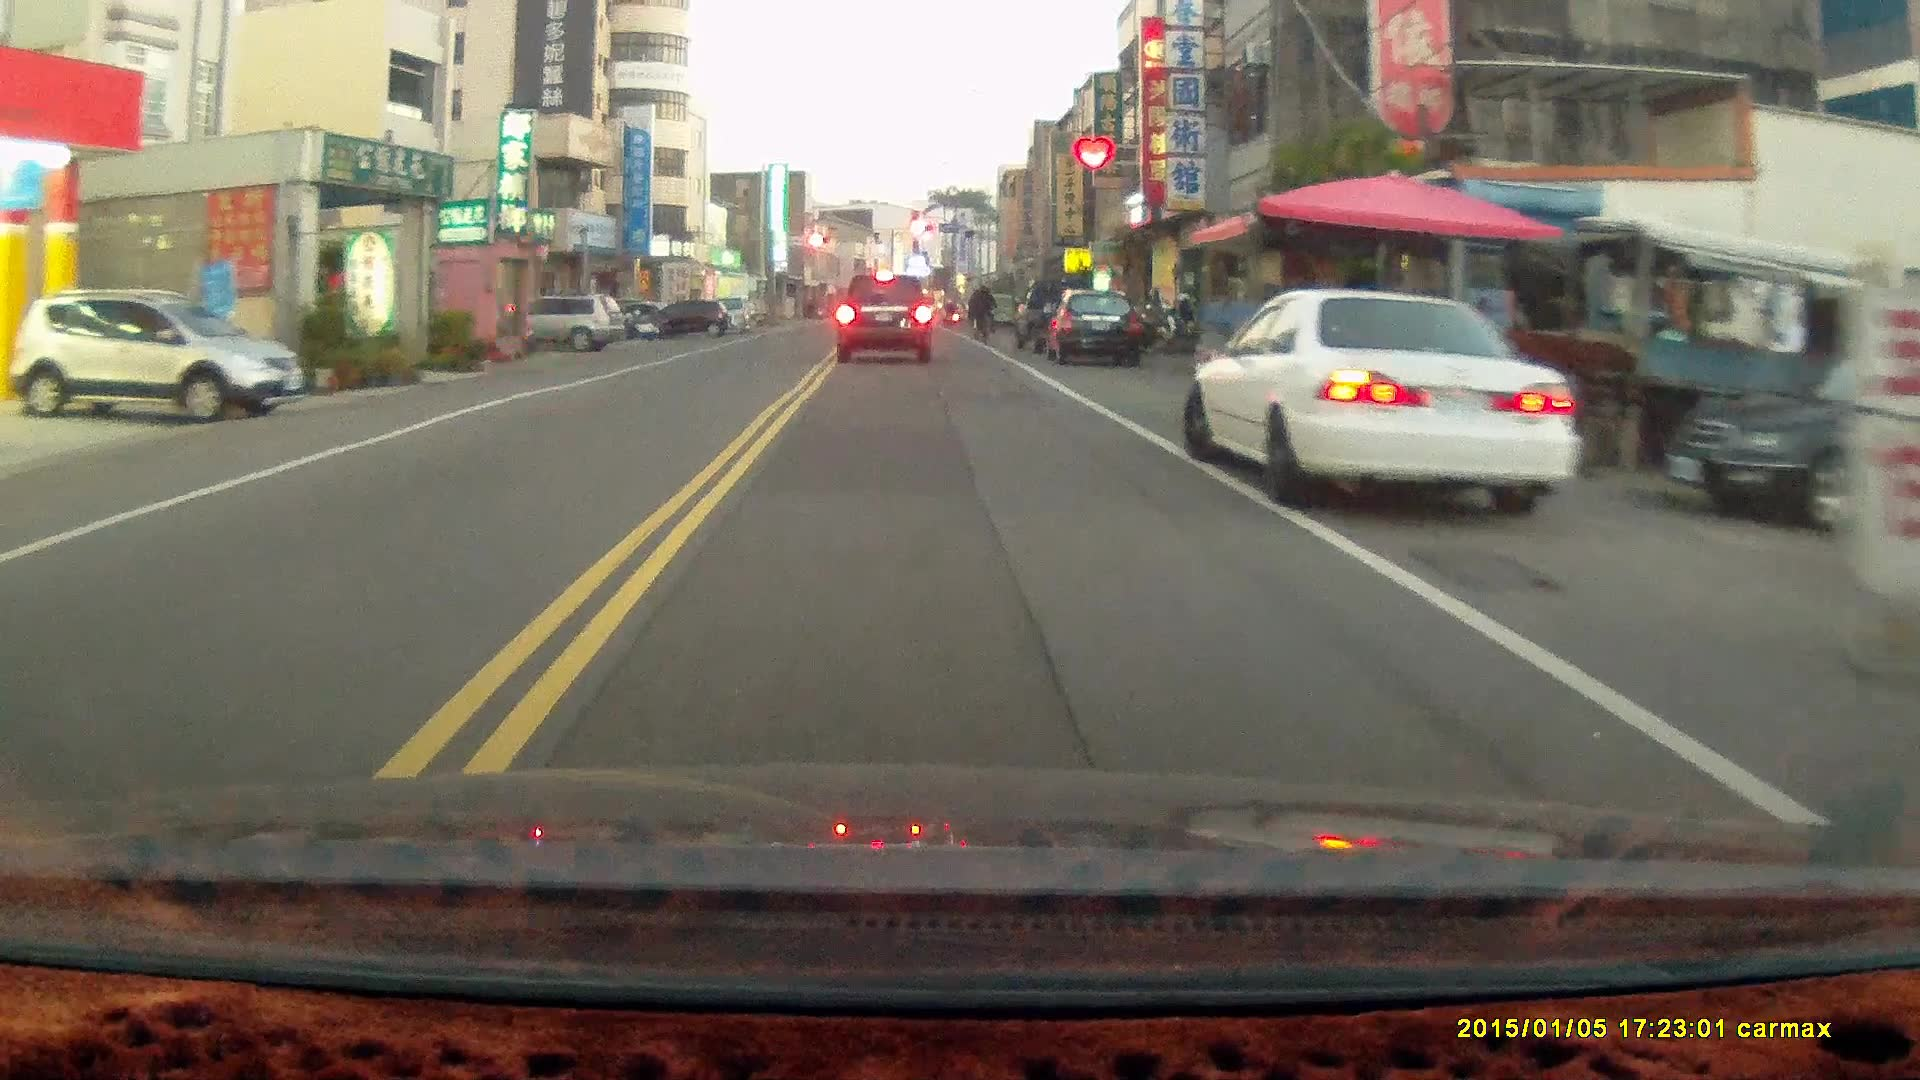rider: (969, 278, 997, 344)
vehicle: (1186, 279, 1582, 516), (1660, 341, 1920, 539), (12, 286, 305, 422), (840, 272, 934, 365), (1047, 285, 1150, 362), (516, 293, 625, 349)
